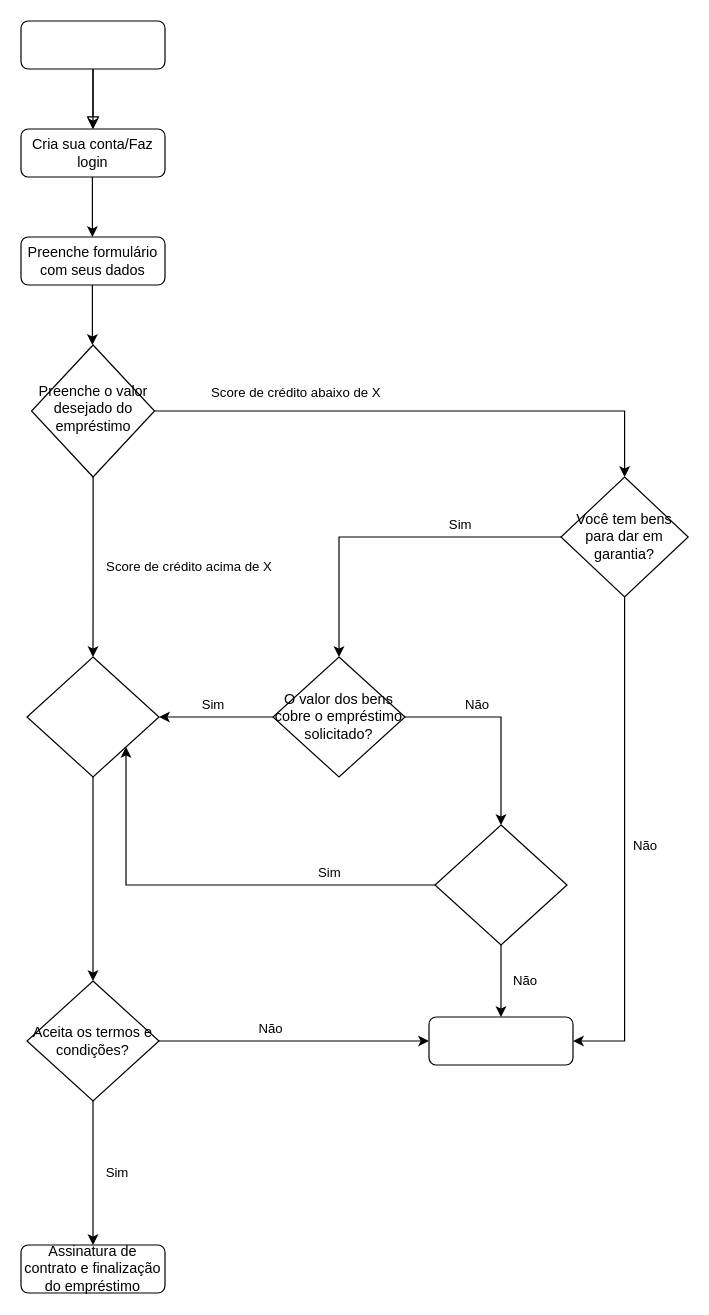
The diagram is 709 pixels wide and 1315 high, and some of its shapes have lost their labels. The box of each missing label's shape, as (x1, y1, x2, y2) in pixels:
Agradecemos o interesse! Volta à homepage: (428, 1016, 573, 1065)
Gostaria de um valor menor?: (434, 824, 567, 945)
Simulação das parcelas: (26, 656, 159, 777)
Usuário acessa a homepage: (20, 20, 165, 69)
